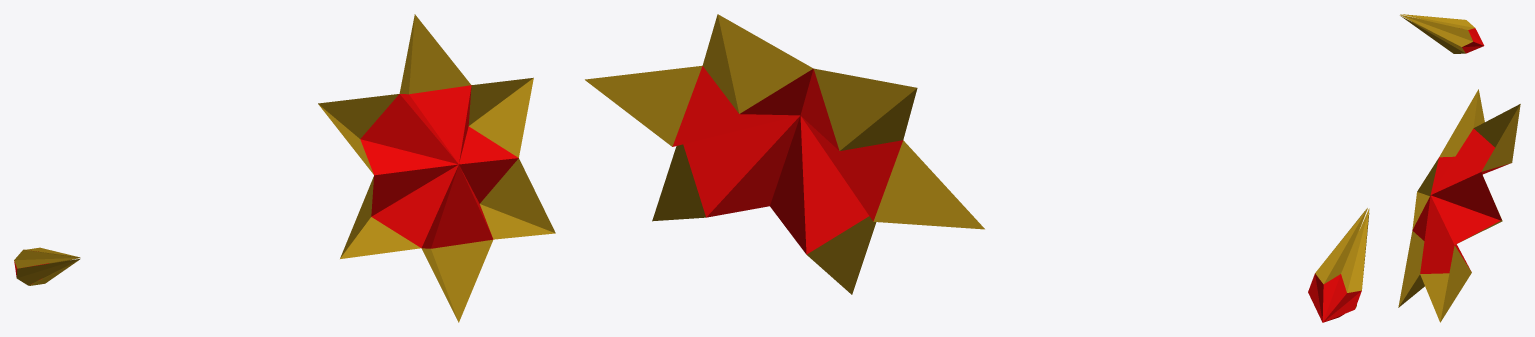
File: MAAD_FlowerTexture.fbx
3 renders of one model, left to right at view 1: azimuth 30°, elevation 25°; view 2: azimuth 150°, elevation 25°; view 3: azimuth 270°, elevation 25°, orthographic. The views are drawn at different scales.
Visible parts, largest first — view 1: Static, FLoweranimated; view 2: Static, FLoweranimated; view 3: Static, FLoweranimated.
Part boxes in pixels (x1,y1,x2,y2): Static: [318, 14, 555, 322]; FLoweranimated: [14, 247, 80, 285]; Static: [585, 14, 984, 294]; FLoweranimated: [1308, 208, 1369, 322]; Static: [1398, 89, 1520, 322]; FLoweranimated: [1400, 14, 1484, 53].
Bounding box in the file's own units: 0.6869 × 0.3033 × 0.1559.
